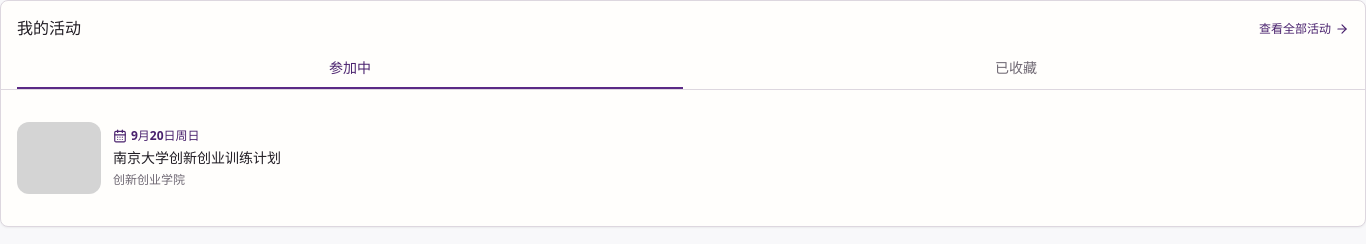
Test: MyEventsSummary › switches between attending and saved events with accessible controlled tabs
Expected: the text "南京大学创新创业训练计划" is shown, left=113, top=148, right=281, bottom=167
Click the tab "已收藏" at (1016, 69), box left=683, top=49, right=1349, bottom=89
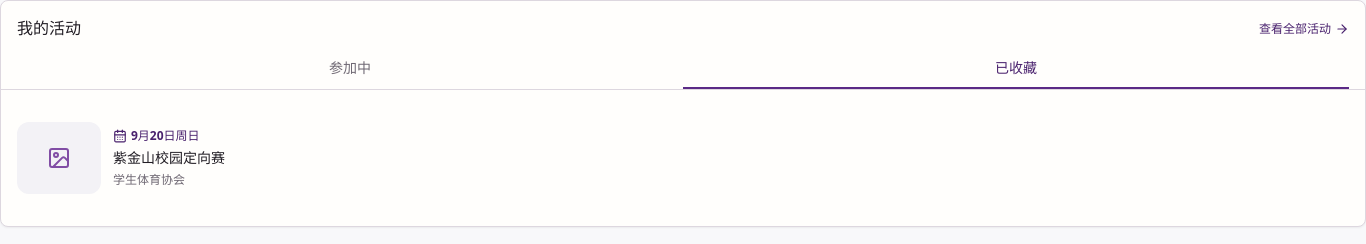
Now the link "南京大学创新创业训练计划" is gone
Now the text "紫金山校园定向赛" is shown, box left=113, top=148, right=225, bottom=167
